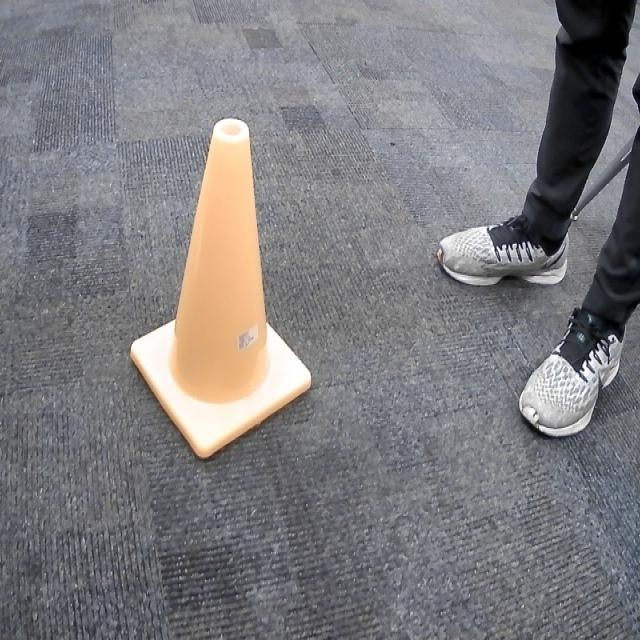cone: (125, 108, 317, 467)
